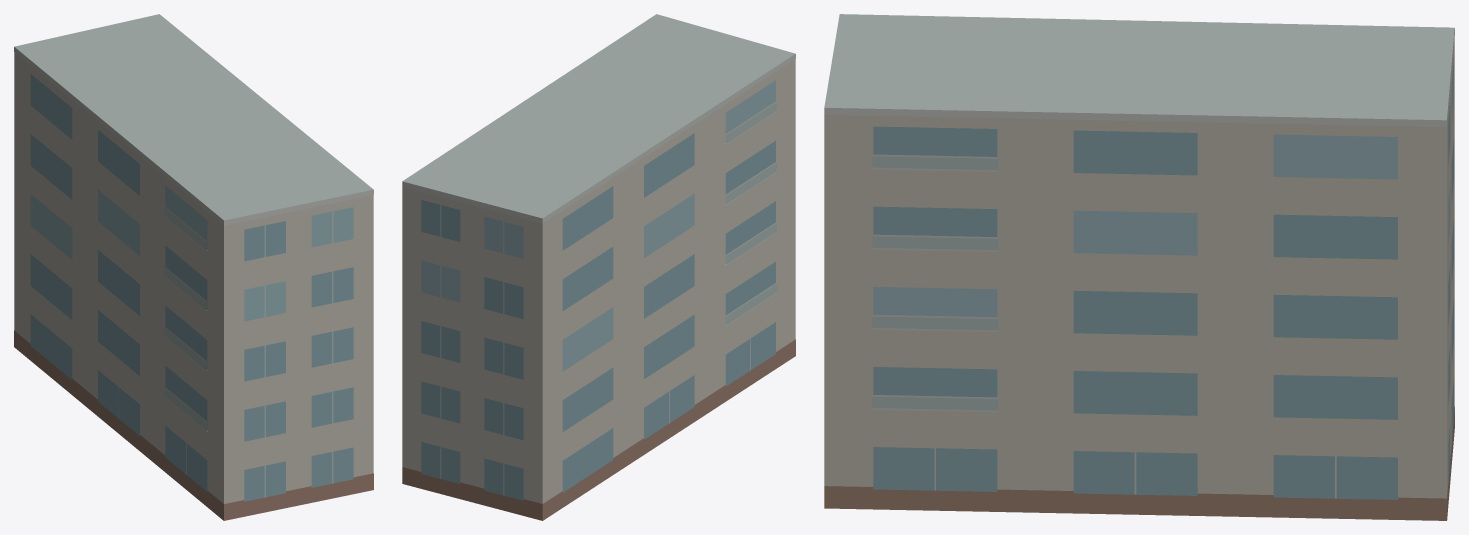
The model's file is survey-upis-32566291.glb.
3 views of the same model, side by side, from view 1: azimuth 30°, elevation 25°; view 2: azimuth 150°, elevation 25°; view 3: azimuth 270°, elevation 25° (orthographic). The views are drawn at different scales.
Parts seen in each view (by area): view 1: survey-upis-32566291.tmp; view 2: survey-upis-32566291.tmp; view 3: survey-upis-32566291.tmp.
Boxes of the visible parts, x1,y1,x2,y2 form: survey-upis-32566291.tmp: (14, 14, 373, 520); survey-upis-32566291.tmp: (402, 14, 795, 520); survey-upis-32566291.tmp: (824, 14, 1454, 520).
Size of the model in its own units: 8.03 by 14.1 by 20.12.
